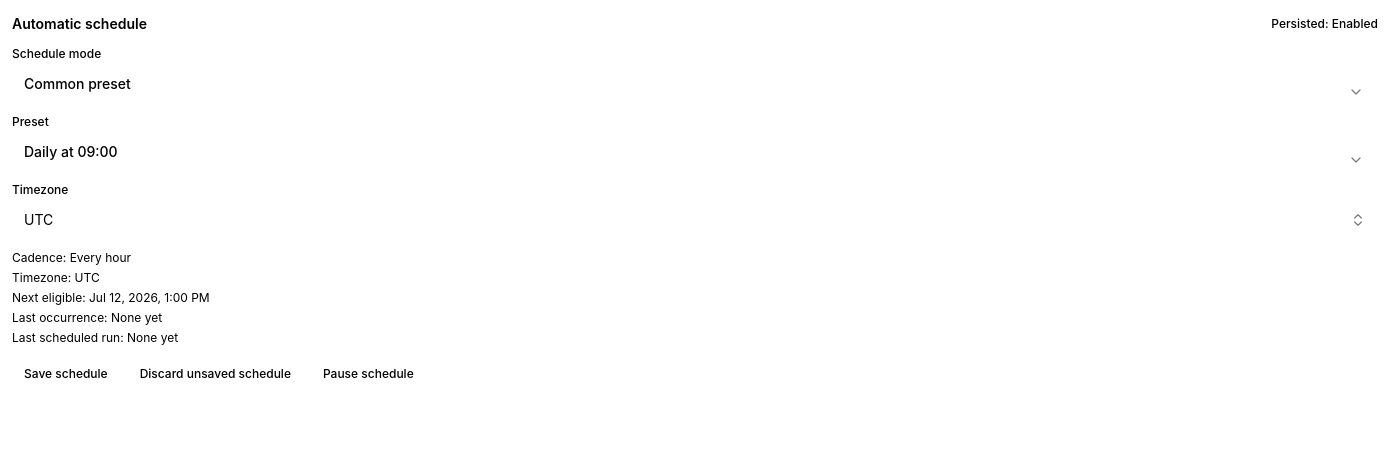
Test case: ConnectorScheduleControls async FormFailureAlert ownership › renders one focused FormFailureAlert after rejected pause and keeps canonical controls
The image size is (1390, 470).
Click the button "Pause schedule": click(368, 374) [311,358,426,390]
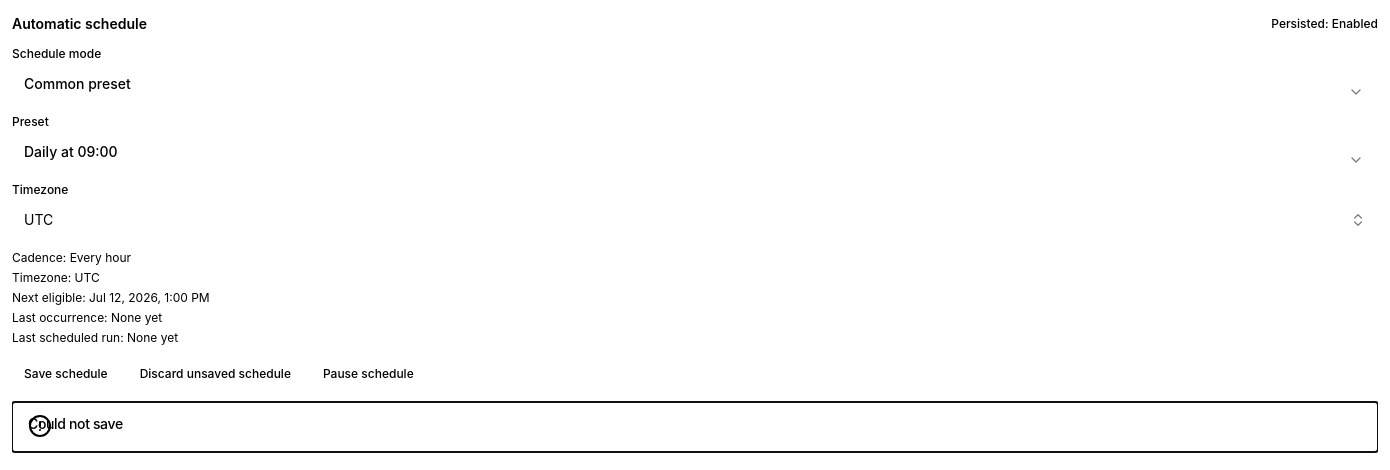
Check: the message does not show "CANARY_SCHEDULE_PAUSE /secret/pause", box [28,414,123,438]
Check: the number of messages is 1, box [28,414,123,438]
